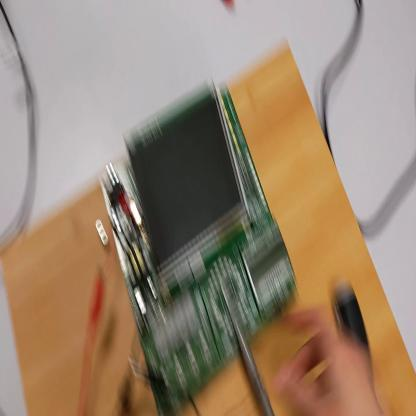hand: (275, 305, 381, 415)
low voltage board: (102, 78, 299, 416)
oscilloscope probe tip: (224, 292, 276, 416)
screwdriver-: (336, 283, 374, 374)
working area: (3, 41, 416, 415)
